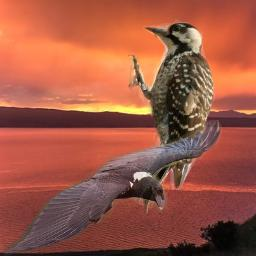Crow: (3, 120, 222, 256)
Woodpecker: (126, 17, 215, 216)
